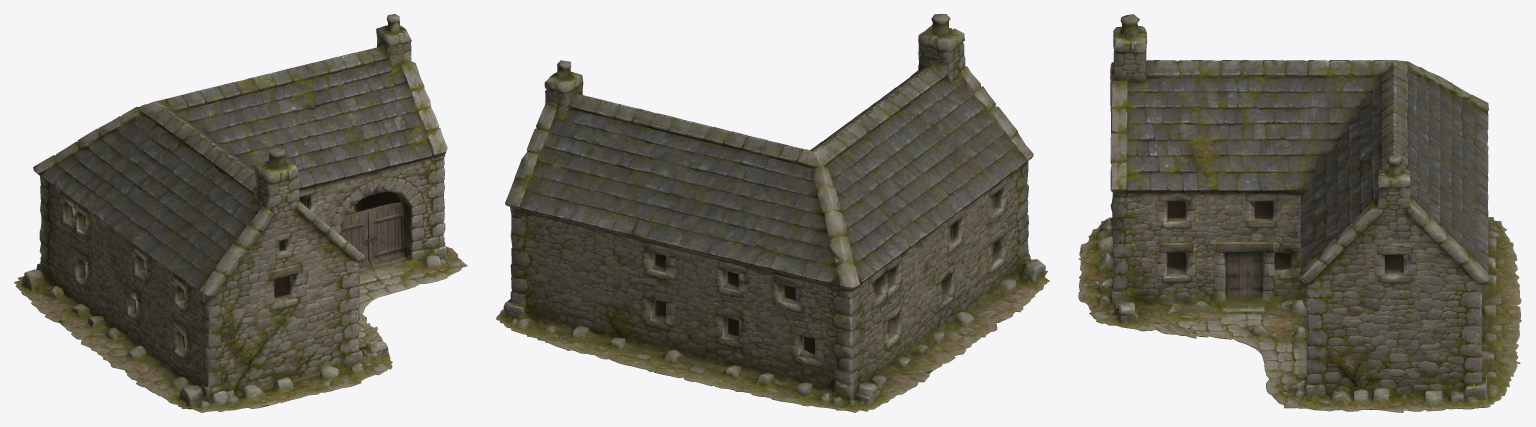
File: farmstead_tripo.glb
3 renders of one model, left to right at view 1: azimuth 30°, elevation 25°; view 2: azimuth 150°, elevation 25°; view 3: azimuth 270°, elevation 25°, orthographic. The views are drawn at different scales.
Visible parts, largest first — view 1: tripo_node_649e6b62-776c-4c65-8f9f-871f9ed5d629; view 2: tripo_node_649e6b62-776c-4c65-8f9f-871f9ed5d629; view 3: tripo_node_649e6b62-776c-4c65-8f9f-871f9ed5d629.
Part boxes in pixels (<box>): tripo_node_649e6b62-776c-4c65-8f9f-871f9ed5d629: <box>14,14,467,412</box>; tripo_node_649e6b62-776c-4c65-8f9f-871f9ed5d629: <box>496,14,1049,412</box>; tripo_node_649e6b62-776c-4c65-8f9f-871f9ed5d629: <box>1078,14,1521,412</box>.
Bounding box in the file's own units: 1 × 0.583 × 0.9283.
Materials: 1 (1 with a texture image).
